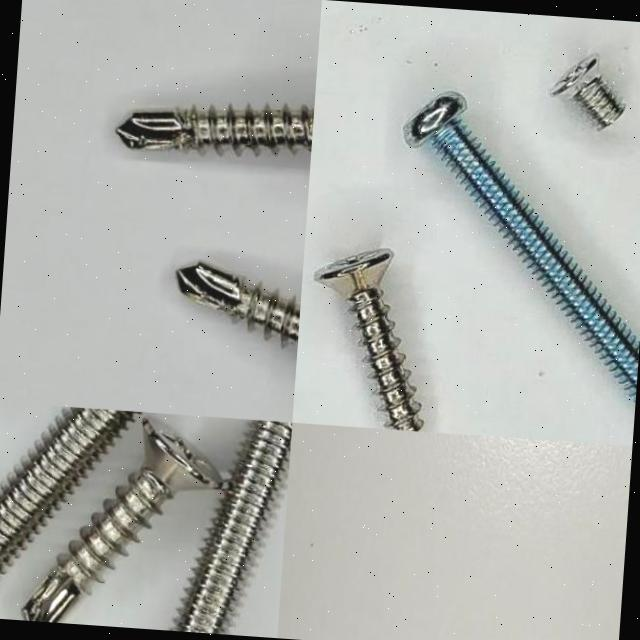Screw: (404, 91, 639, 403), (20, 419, 221, 622), (170, 419, 292, 634), (0, 406, 136, 575), (314, 248, 423, 431), (175, 263, 300, 349), (114, 105, 314, 155), (551, 52, 626, 128)
